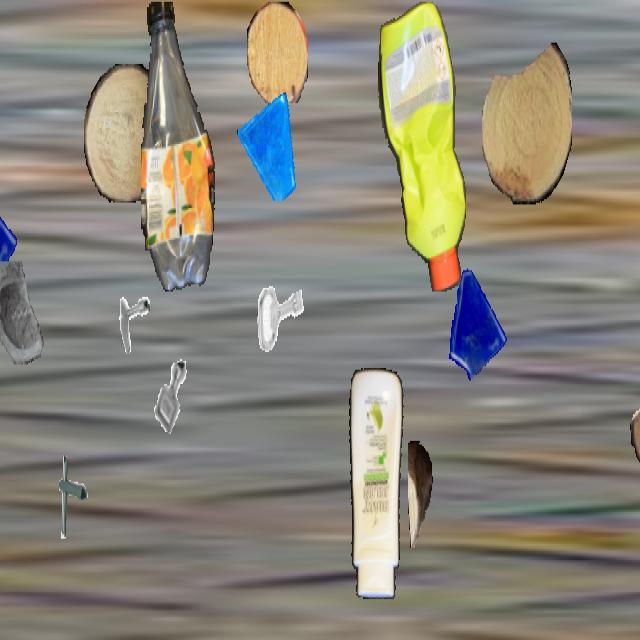glass: (443, 263, 509, 381), (237, 89, 299, 199), (0, 262, 53, 382), (0, 151, 19, 311)
metal: (249, 263, 309, 370), (143, 347, 199, 446), (44, 450, 96, 542), (108, 277, 150, 352)
plastic: (377, 2, 467, 290), (141, 2, 217, 290), (342, 368, 406, 599)
wood: (482, 41, 572, 204), (84, 64, 166, 203), (247, 2, 307, 105), (408, 441, 432, 547), (630, 340, 640, 478)
